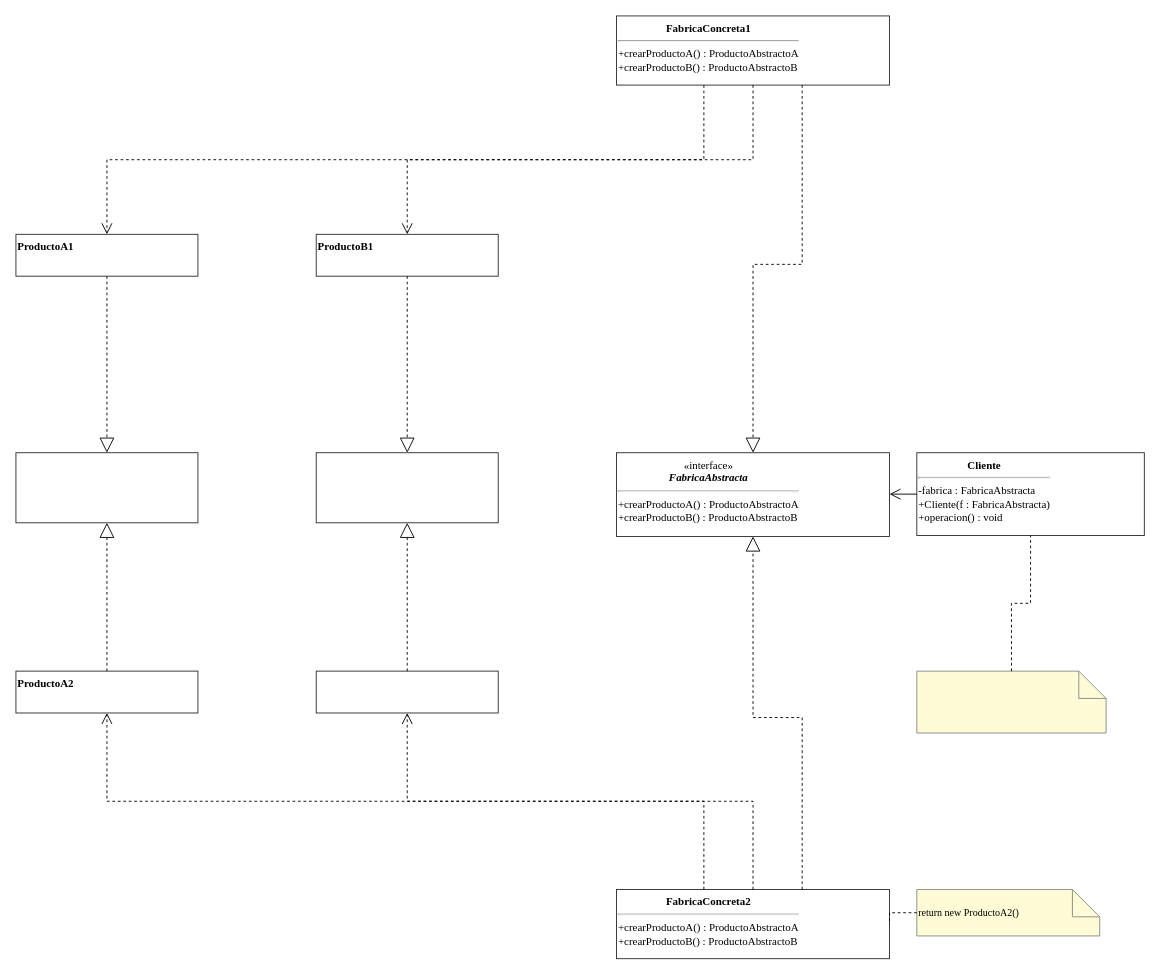
Some shapes in this 1160 by 975 pixel diagram are drawn without their labels. The shapes that lost their labels are listed below. From the top down, each one's box as (x1, y1, x2, y2) in pixels, then its label:
(15, 452, 198, 523): «interface» ProductoAbstractoA +operacionA() : void
(315, 452, 498, 523): «interface» ProductoAbstractoB +operacionB() : void
(315, 670, 498, 713): ProductoB2
(916, 670, 1106, 733): ProductoAbstractoA pa = fabrica.crearProductoA()
